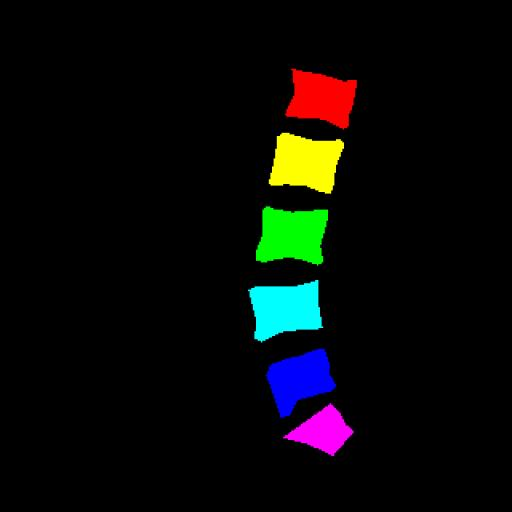L1: (286, 69, 357, 128)
L2: (269, 132, 343, 195)
L3: (256, 207, 328, 264)
L4: (249, 280, 322, 342)
L5: (267, 349, 336, 416)
S1: (284, 404, 353, 456)
